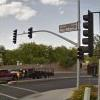Traffic light: (70, 8, 100, 65)
